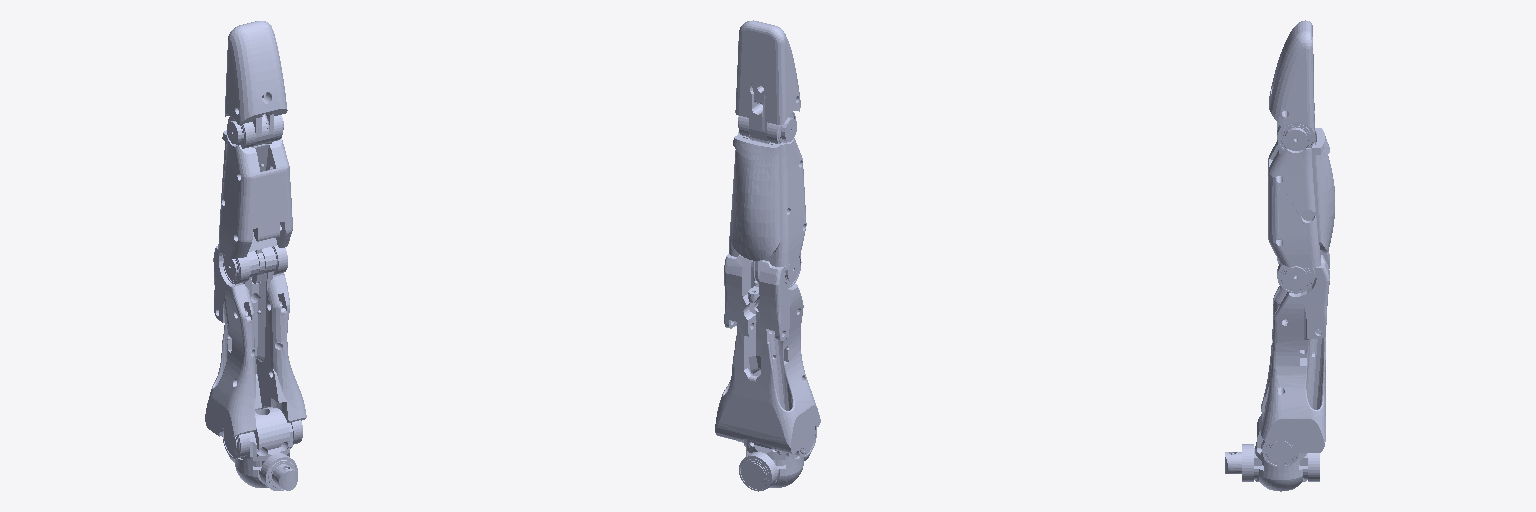
robot.urdf — URDF_Thumb_64k.SLDASM:
<?xml version="1.0" encoding="utf-8"?>
<!-- This URDF was automatically created by SolidWorks to URDF Exporter! Originally created by [author] ([email redacted]) 
     Commit Version: 1.6.0-1-g15f4949  Build Version: 1.6.7594.29634
     For more information, please see http://wiki.ros.org/sw_urdf_exporter -->
<robot
  name="URDF_Thumb_64k.SLDASM">
  <link
    name="CMC_Proximal">
    <inertial>
      <origin
        xyz="0.00883819250042111 -0.00369336218317498 -0.00218791633736805"
        rpy="0 0 0" />
      <mass
        value="0.00129182705947473" />
      <inertia
        ixx="5.05912526929619E-08"
        ixy="-3.17013356279515E-13"
        ixz="-9.11046287038391E-13"
        iyy="5.69650195238573E-08"
        iyz="-2.16133418559341E-09"
        izz="2.08976970387255E-08" />
    </inertial>
    <visual>
      <origin
        xyz="0 0 0"
        rpy="0 0 0" />
      <geometry>
        <mesh
          filename="package://URDF_Thumb_64k.SLDASM/meshes/CMC_Proximal.STL" />
      </geometry>
      <material
        name="">
        <color
          rgba="0.792156862745098 0.819607843137255 0.933333333333333 1" />
      </material>
    </visual>
    <collision>
      <origin
        xyz="0 0 0"
        rpy="0 0 0" />
      <geometry>
        <mesh
          filename="package://URDF_Thumb_64k.SLDASM/meshes/CMC_Proximal.STL" />
      </geometry>
    </collision>
  </link>
  <link
    name="CMC_Distal">
    <inertial>
      <origin
        xyz="7.90728546258557E-07 6.71093104155701E-05 -0.00418725968176794"
        rpy="0 0 0" />
      <mass
        value="0.0023151150301077" />
      <inertia
        ixx="5.20245040797807E-08"
        ixy="-4.74368307404951E-14"
        ixz="-2.3685982766405E-14"
        iyy="6.84071256112861E-08"
        iyz="-1.31447803779296E-10"
        izz="6.09361284130216E-08" />
    </inertial>
    <visual>
      <origin
        xyz="0 0 0"
        rpy="0 0 0" />
      <geometry>
        <mesh
          filename="package://URDF_Thumb_64k.SLDASM/meshes/CMC_Distal.STL" />
      </geometry>
      <material
        name="">
        <color
          rgba="0.792156862745098 0.819607843137255 0.933333333333333 1" />
      </material>
    </visual>
    <collision>
      <origin
        xyz="0 0 0"
        rpy="0 0 0" />
      <geometry>
        <mesh
          filename="package://URDF_Thumb_64k.SLDASM/meshes/CMC_Distal.STL" />
      </geometry>
    </collision>
  </link>
  <joint
    name="Thumb_Basal_Roll"
    type="continuous">
    <origin
      xyz="0.0088382 0.0031885 0"
      rpy="-3.1416 0 -3.1416" />
    <parent
      link="CMC_Proximal" />
    <child
      link="CMC_Distal" />
    <axis
      xyz="0 0 1" />
  </joint>
  <link
    name="Thumb_Knuckle">
    <inertial>
      <origin
        xyz="-0.0250395531830131 0.00526752119345172 -1.05900375750936E-06"
        rpy="0 0 0" />
      <mass
        value="0.00843581173458002" />
      <inertia
        ixx="4.19452617739642E-07"
        ixy="7.67800407278919E-08"
        ixz="-3.24106518513954E-10"
        iyy="2.25405017140097E-06"
        iyz="-2.80027015562277E-11"
        izz="2.12092774740041E-06" />
    </inertial>
    <visual>
      <origin
        xyz="0 0 0"
        rpy="0 0 0" />
      <geometry>
        <mesh
          filename="package://URDF_Thumb_64k.SLDASM/meshes/Thumb_Knuckle.STL" />
      </geometry>
      <material
        name="">
        <color
          rgba="0.792156862745098 0.819607843137255 0.933333333333333 1" />
      </material>
    </visual>
    <collision>
      <origin
        xyz="0 0 0"
        rpy="0 0 0" />
      <geometry>
        <mesh
          filename="package://URDF_Thumb_64k.SLDASM/meshes/Thumb_Knuckle.STL" />
      </geometry>
    </collision>
  </link>
  <joint
    name="Thumb_Yaw"
    type="continuous">
    <origin
      xyz="0 0 -0.0058238"
      rpy="0 -1.5708 0" />
    <parent
      link="CMC_Distal" />
    <child
      link="Thumb_Knuckle" />
    <axis
      xyz="0 0 1" />
  </joint>
  <link
    name="Thumb_Middle">
    <inertial>
      <origin
        xyz="-0.0192041887360864 0.000547738952617514 -1.70909600632485E-05"
        rpy="0 0 0" />
      <mass
        value="0.00540276459003736" />
      <inertia
        ixx="2.35147204312112E-07"
        ixy="-1.41335907780382E-08"
        ixz="1.13371451305994E-10"
        iyy="6.11180513987054E-07"
        iyz="2.15803164672234E-10"
        izz="5.77845121656545E-07" />
    </inertial>
    <visual>
      <origin
        xyz="0 0 0"
        rpy="0 0 0" />
      <geometry>
        <mesh
          filename="package://URDF_Thumb_64k.SLDASM/meshes/Thumb_Middle.STL" />
      </geometry>
      <material
        name="">
        <color
          rgba="0.792156862745098 0.819607843137255 0.933333333333333 1" />
      </material>
    </visual>
    <collision>
      <origin
        xyz="0 0 0"
        rpy="0 0 0" />
      <geometry>
        <mesh
          filename="package://URDF_Thumb_64k.SLDASM/meshes/Thumb_Middle.STL" />
      </geometry>
    </collision>
  </link>
  <joint
    name="Thumb_PIP"
    type="continuous">
    <origin
      xyz="-0.05 0.004 0"
      rpy="0 0 0" />
    <parent
      link="Thumb_Knuckle" />
    <child
      link="Thumb_Middle" />
    <axis
      xyz="0 0 1" />
  </joint>
  <link
    name="Thumb_Tip">
    <inertial>
      <origin
        xyz="-0.0116042467373323 0.000268719237497275 -1.64278441376793E-05"
        rpy="0 0 0" />
      <mass
        value="0.00380344330276905" />
      <inertia
        ixx="8.52603135782221E-08"
        ixy="1.7467794464838E-08"
        ixz="5.81500110697351E-10"
        iyy="3.2373707961167E-07"
        iyz="-7.5181169880407E-11"
        izz="2.9892119274509E-07" />
    </inertial>
    <visual>
      <origin
        xyz="0 0 0"
        rpy="0 0 0" />
      <geometry>
        <mesh
          filename="package://URDF_Thumb_64k.SLDASM/meshes/Thumb_Tip.STL" />
      </geometry>
      <material
        name="">
        <color
          rgba="0.792156862745098 0.819607843137255 0.933333333333333 1" />
      </material>
    </visual>
    <collision>
      <origin
        xyz="0 0 0"
        rpy="0 0 0" />
      <geometry>
        <mesh
          filename="package://URDF_Thumb_64k.SLDASM/meshes/Thumb_Tip.STL" />
      </geometry>
    </collision>
  </link>
  <joint
    name="Thumb_DIP"
    type="continuous">
    <origin
      xyz="-0.04 0 0"
      rpy="0 0 0.018378" />
    <parent
      link="Thumb_Middle" />
    <child
      link="Thumb_Tip" />
    <axis
      xyz="0 0 1" />
  </joint>
</robot>

--- What the picture shows (computed from the rendered views, not written in the file) ---
The picture shows the robot from 3 angles, left to right: view 1: azimuth 30°, elevation 25°; view 2: azimuth 150°, elevation 25°; view 3: azimuth 270°, elevation 25°; orthographic projection.
Model URDF_Thumb_64k.SLDASM with 5 links and 4 joints (4 continuous), rooted at CMC_Proximal, posed every joint at zero.
Visible links, largest first — view 1: Thumb_Knuckle, Thumb_Middle, Thumb_Tip, CMC_Distal, CMC_Proximal; view 2: Thumb_Knuckle, Thumb_Middle, Thumb_Tip, CMC_Proximal, CMC_Distal; view 3: Thumb_Knuckle, Thumb_Middle, Thumb_Tip, CMC_Proximal, CMC_Distal.
Link boxes in pixels (x1=…): Thumb_Knuckle: x1=205, y1=245, x2=306, y2=436; Thumb_Middle: x1=218, y1=130, x2=292, y2=283; Thumb_Tip: x1=225, y1=21, x2=287, y2=148; CMC_Distal: x1=222, y1=407, x2=302, y2=469; CMC_Proximal: x1=228, y1=453, x2=297, y2=490; Thumb_Knuckle: x1=715, y1=254, x2=820, y2=453; Thumb_Middle: x1=729, y1=132, x2=806, y2=285; Thumb_Tip: x1=735, y1=20, x2=800, y2=143; CMC_Proximal: x1=739, y1=452, x2=810, y2=491; CMC_Distal: x1=736, y1=426, x2=816, y2=468; Thumb_Knuckle: x1=1261, y1=250, x2=1329, y2=452; Thumb_Middle: x1=1268, y1=128, x2=1334, y2=267; Thumb_Tip: x1=1269, y1=20, x2=1314, y2=150; CMC_Proximal: x1=1225, y1=444, x2=1319, y2=491; CMC_Distal: x1=1255, y1=411, x2=1306, y2=472.
Size in the robot's own frame: 0.0228 by 0.0295 by 0.1345 metres.
5 mesh visuals loaded from 5 distinct referenced files (5 binary STL).